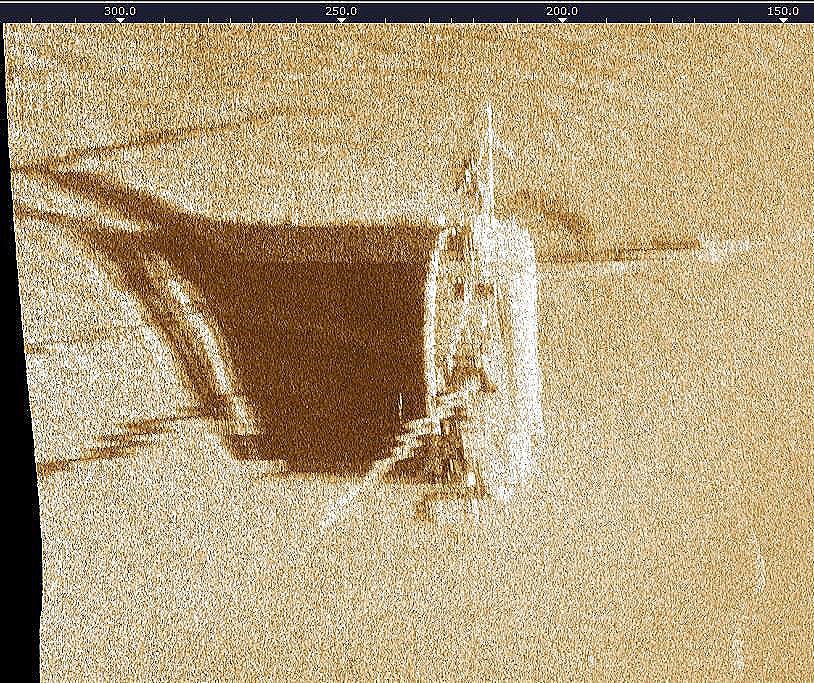ship: (319, 104, 546, 535)
